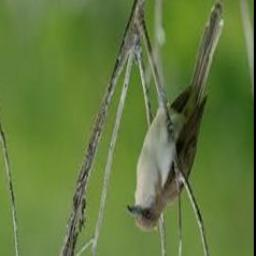Cuckoo: (127, 0, 225, 231)
